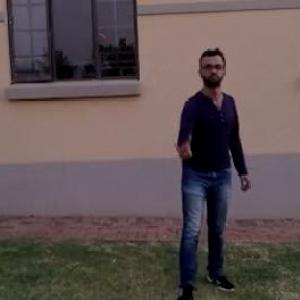takeoff-hand: (168, 130, 196, 164)
